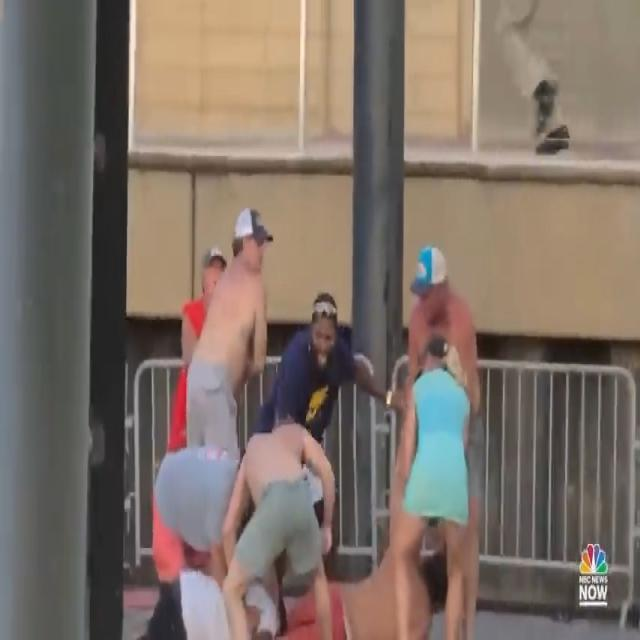fight: (153, 187, 481, 640)
